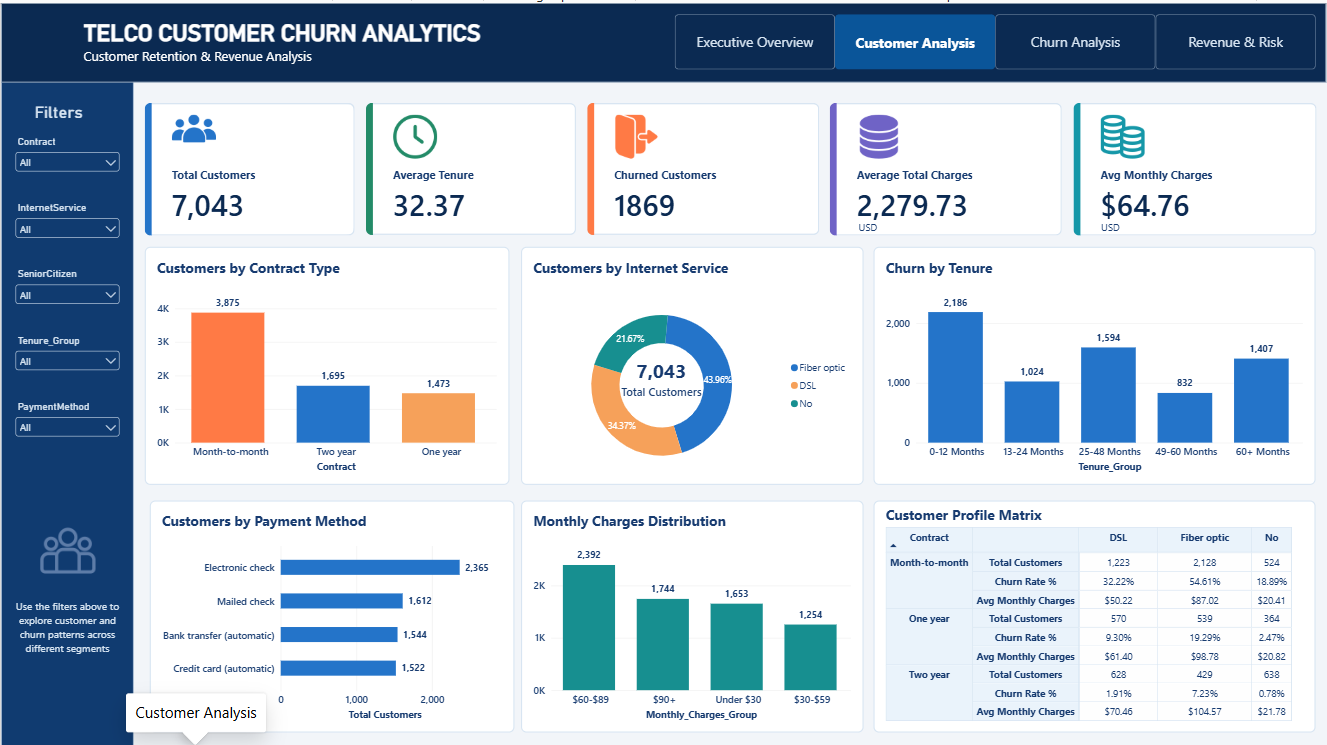

The dashboard page shown, as its layout file describes it:
{"tool":"powerbi","page":{"name":"Customer Analysis","canvas":[1920,1080],"ordinal":1},"visuals":[{"type":"shape","box":[0,112,192,968],"z":0},{"type":"shape","box":[0,0,1920,115],"z":1000},{"type":"textbox","title":"TELCO CUSTOMER CHURN ANALYTICS","box":[120,24,576,72],"z":2000},{"type":"pageNavigator","box":[976,16,928,80],"z":3000},{"type":"clusteredBarChart","title":"Customers by Payment Method","fields":{"Category":["Telco_Churn.PaymentMethod"],"Y":["Measure.Total Customers"]},"box":[216,720,528,336],"z":4000},{"type":"clusteredColumnChart","title":"Churn by Tenure","fields":{"Category":["Telco_Churn.Tenure_Group"],"Y":["Measure.Total Customers"]},"box":[1264,352,640,345],"z":5000},{"type":"clusteredColumnChart","title":"Customers by Contract Type","fields":{"Category":["Telco_Churn.Contract"],"Y":["Measure.Total Customers"]},"box":[208,352,528,345],"z":6000},{"type":"donutChart","title":"Customers by Internet Service","fields":{"Category":["Telco_Churn.InternetService"],"Y":["Measure.Total Customers"]},"box":[752,352,496,345],"z":7000},{"type":"slicer","fields":{"Values":["Telco_Churn.Contract"]},"box":[16,192,160,64],"z":8000},{"type":"slicer","fields":{"Values":["Telco_Churn.PaymentMethod"]},"box":[16,576,160,80],"z":9000},{"type":"slicer","fields":{"Values":["Telco_Churn.InternetService"]},"box":[16,288,160,64],"z":10000},{"type":"slicer","fields":{"Values":["Telco_Churn.SeniorCitizen"]},"box":[16,384,160,64],"z":11000},{"type":"slicer","fields":{"Values":["Telco_Churn.Tenure_Group"]},"box":[16,480,160,64],"z":12000},{"type":"textbox","box":[16,864,160,96],"z":13000},{"type":"image","box":[48,752,96,80],"z":14000},{"type":"textbox","title":"Filters","box":[48,144,96,32],"z":15000},{"type":"clusteredColumnChart","title":"Monthly Charges Distribution","fields":{"Category":["Telco_Churn.Monthly_Charges_Group"],"Y":["Measure.Total Customers"]},"box":[752,720,496,336],"z":16000},{"type":"pivotTable","title":"Customer Profile Matrix","fields":{"Columns":["Telco_Churn.InternetService"],"Rows":["Telco_Churn.Contract"],"Values":["Measure.Total Customers","Measure.Churn Rate %","Measure.Avg Monthly Charges"]},"box":[1264,720,640,336],"z":17000},{"type":"cardVisual","fields":{"Data":["Measure.Total Customers"]},"box":[208,144,304,192],"z":18000},{"type":"cardVisual","fields":{"Data":["Measure.Average Total Charges"]},"box":[1200,144,336,192],"z":19000},{"type":"cardVisual","fields":{"Data":["Measure.Average Tenure"]},"box":[528,144,304,192],"z":20000},{"type":"cardVisual","fields":{"Data":["Measure.Average Monthly Charges"]},"box":[1552,144,352,192],"z":21000},{"type":"cardVisual","fields":{"Data":["Measure.Churned Customers"]},"box":[848,144,336,192],"z":22000},{"type":"cardVisual","fields":{"Data":["Measure.Total Customers"]},"box":[892,510,128,64],"z":23000},{"type":"textbox","title":"USD","box":[1242,314,48,32],"z":23001},{"type":"textbox","title":"USD","box":[1592,314,48,32],"z":23002}]}

Visuals, with their boxes in screenshot pixels (x1, y1, x2, y2), scaled from the page's 1920x1080 canvas onto the 1327x745 screenshot:
shape: (left=0, top=77, right=133, bottom=744)
shape: (left=0, top=0, right=1326, bottom=79)
"TELCO CUSTOMER CHURN ANALYTICS" textbox: (left=83, top=17, right=481, bottom=66)
pageNavigator: (left=675, top=11, right=1316, bottom=66)
"Customers by Payment Method" clusteredBarChart: (left=149, top=497, right=514, bottom=728)
"Churn by Tenure" clusteredColumnChart: (left=874, top=243, right=1316, bottom=481)
"Customers by Contract Type" clusteredColumnChart: (left=144, top=243, right=509, bottom=481)
"Customers by Internet Service" donutChart: (left=520, top=243, right=863, bottom=481)
slicer - Telco_Churn.Contract: (left=11, top=132, right=122, bottom=177)
slicer - Telco_Churn.PaymentMethod: (left=11, top=397, right=122, bottom=453)
slicer - Telco_Churn.InternetService: (left=11, top=199, right=122, bottom=243)
slicer - Telco_Churn.SeniorCitizen: (left=11, top=265, right=122, bottom=309)
slicer - Telco_Churn.Tenure_Group: (left=11, top=331, right=122, bottom=375)
textbox: (left=11, top=596, right=122, bottom=662)
image: (left=33, top=519, right=100, bottom=574)
"Filters" textbox: (left=33, top=99, right=100, bottom=121)
"Monthly Charges Distribution" clusteredColumnChart: (left=520, top=497, right=863, bottom=728)
"Customer Profile Matrix" pivotTable: (left=874, top=497, right=1316, bottom=728)
cardVisual - Measure.Total Customers: (left=144, top=99, right=354, bottom=232)
cardVisual - Measure.Average Total Charges: (left=829, top=99, right=1062, bottom=232)
cardVisual - Measure.Average Tenure: (left=365, top=99, right=575, bottom=232)
cardVisual - Measure.Average Monthly Charges: (left=1073, top=99, right=1316, bottom=232)
cardVisual - Measure.Churned Customers: (left=586, top=99, right=818, bottom=232)
cardVisual - Measure.Total Customers: (left=617, top=352, right=705, bottom=396)
"USD" textbox: (left=858, top=217, right=892, bottom=239)
"USD" textbox: (left=1100, top=217, right=1133, bottom=239)
